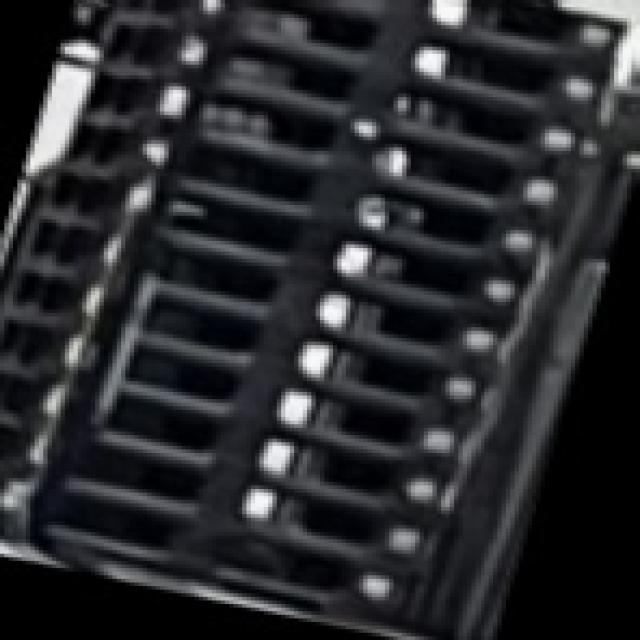igps: (0, 476, 442, 634), (15, 429, 459, 571), (114, 175, 550, 319), (25, 379, 468, 520), (90, 225, 524, 368), (147, 76, 584, 218), (51, 326, 486, 468), (164, 27, 608, 164), (71, 279, 505, 416), (132, 130, 546, 267), (167, 0, 622, 113), (419, 0, 635, 56)
